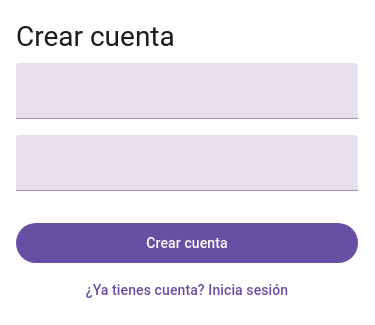
Test case: SignupView › shows the format error and sends nothing when the email is malformed
Type "not-an-email" into the field named "Email". click: (187, 91)
box: left=16, top=63, right=358, bottom=119
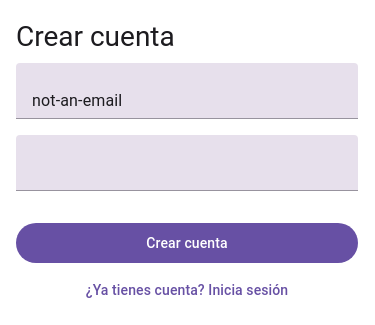
Type "secret" into the password field named "Contraseña". click: (187, 163)
box: left=16, top=135, right=358, bottom=191
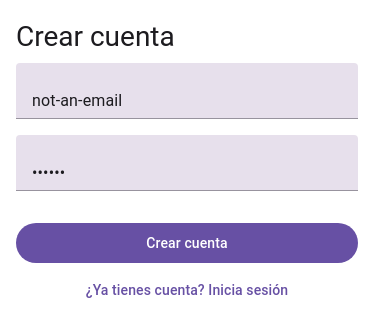
Click the button "Crear cuenta". click: (187, 243)
box: left=16, top=223, right=358, bottom=263
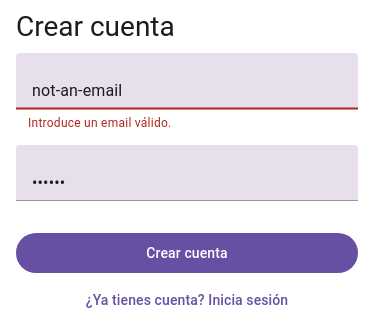
Expected: the text "Introduce un email válido." is shown, left=28, top=116, right=171, bottom=130
